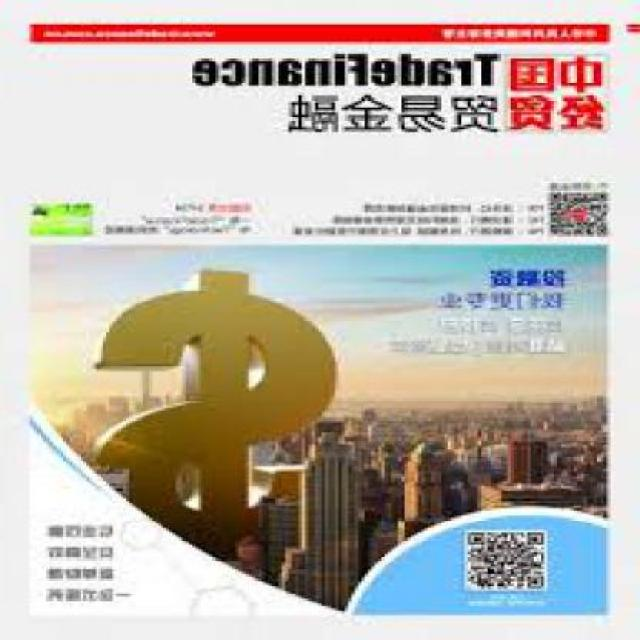PAPER: (1, 0, 640, 638)
